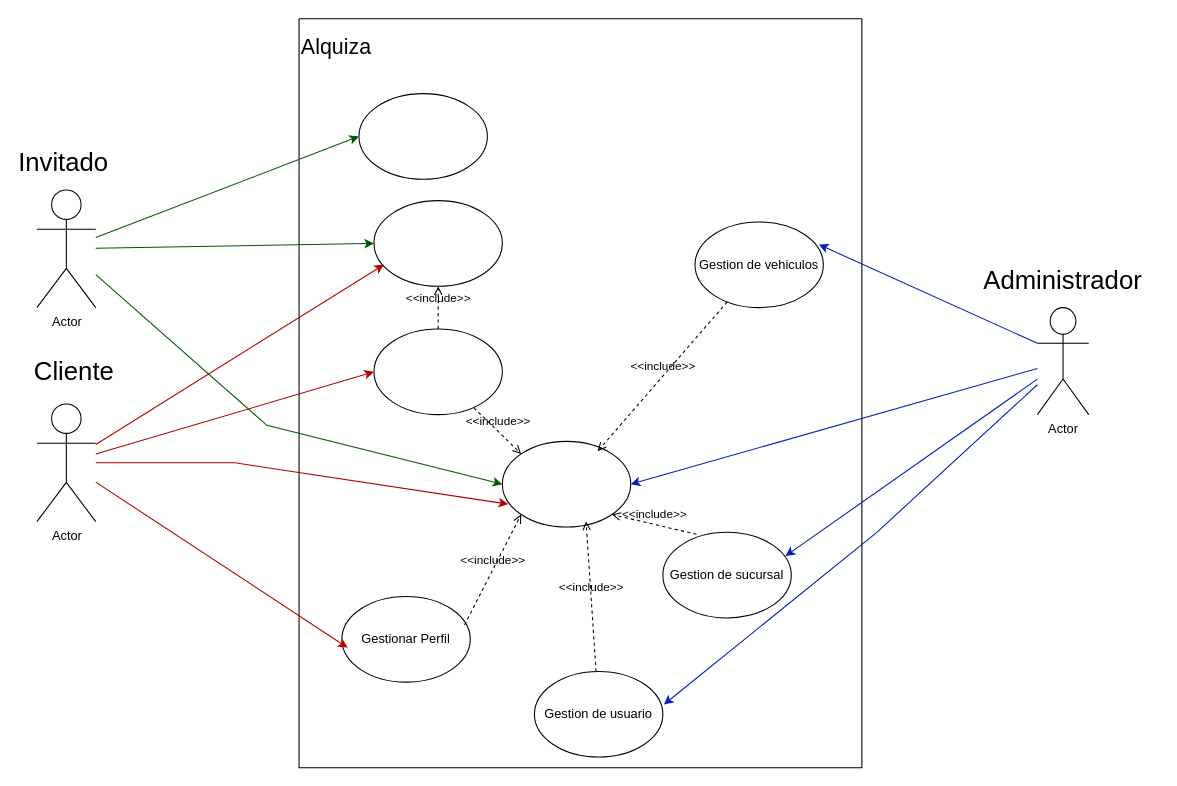
Image size: 1177x786. Some labels were removed from this diagram. The centre of each missing label's shape, as x and y in pixels:
"Buscar vehiculos" belongs at pixel 437 243.
"Iniciar Sesion" belongs at pixel 566 483.
"Realizar Reserva" belongs at pixel 437 371.
"Registro de nuevo usuario" belongs at pixel 422 136.
